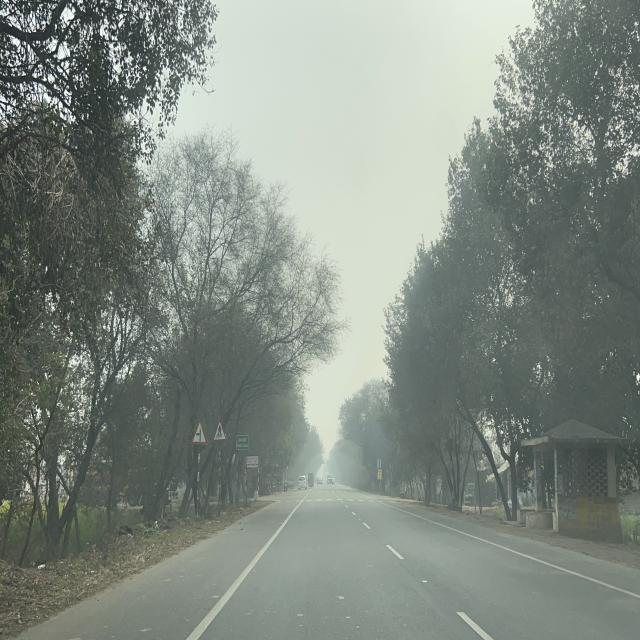GENERAL: (236, 434, 249, 450)
PEDESTRIAN_CROSSING: (213, 419, 228, 441)
SIDE_ROAD_LEFT: (191, 418, 208, 444)
